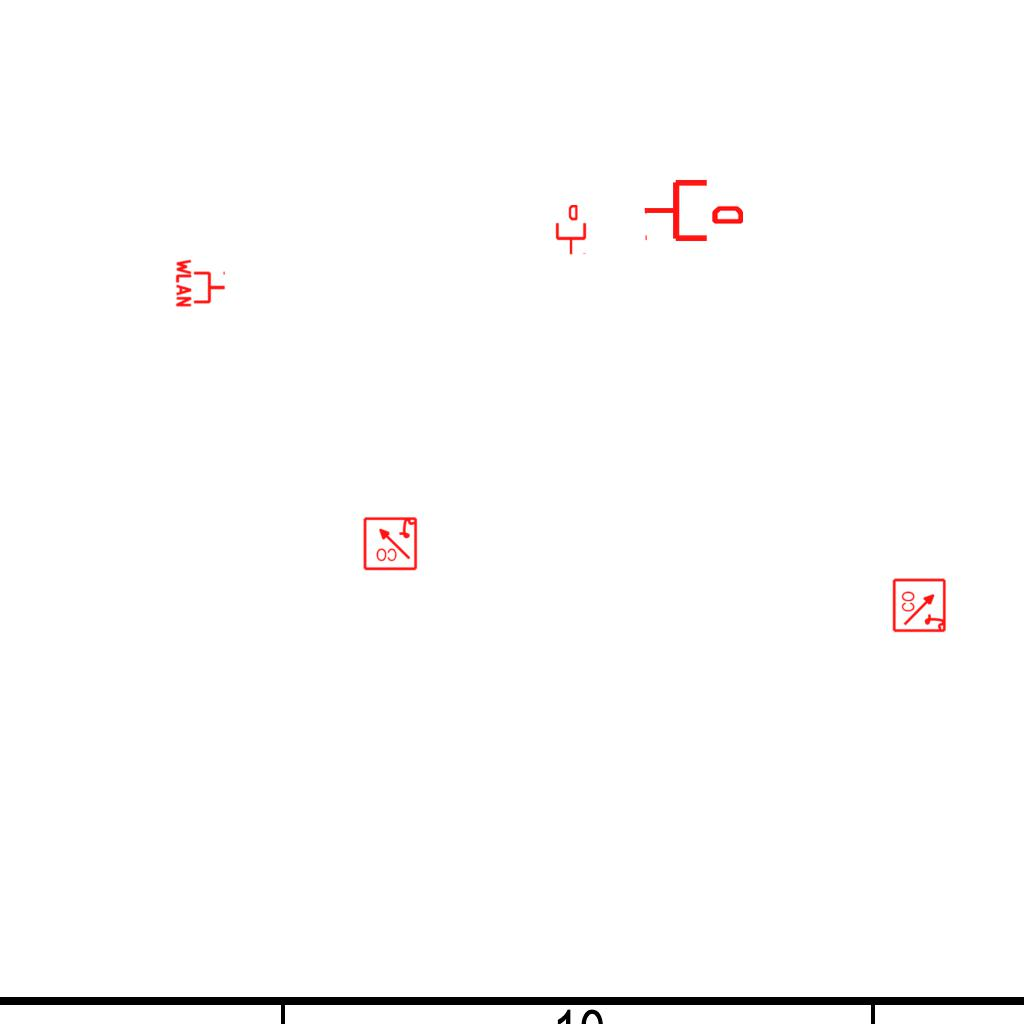Datenanschluss_einfach: (643, 176, 743, 245), (554, 205, 588, 255)
ROA_Rauchmelder_optisch_mit_Signalgeber_(Sockelsirene): (362, 515, 418, 571), (892, 577, 948, 633)
WLAN: (174, 256, 228, 310)
